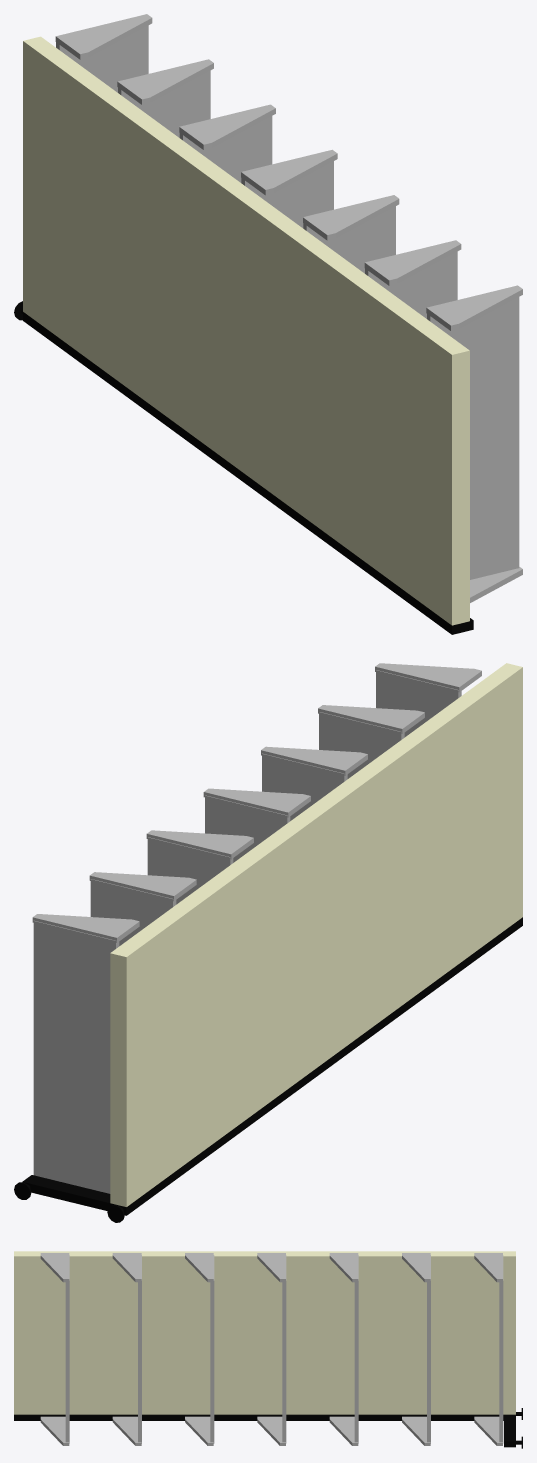
The model's file is nil_link_mesh.dae.
The picture shows the model from 3 angles, top to bottom: view 1: azimuth 30°, elevation 25°; view 2: azimuth 150°, elevation 25°; view 3: azimuth 270°, elevation 25°; orthographic projection. The views are drawn at different scales.
Parts seen in each view (by area): view 1: nil_link (×9); view 2: nil_link (×10); view 3: nil_link (×10).
Part boxes in pixels (x1=…): nil_link (×9): x1=23, y1=14, x2=522, y2=634; nil_link (×10): x1=22, y1=663, x2=522, y2=1215; nil_link (×10): x1=14, y1=1251, x2=515, y2=1447.
Bounding box in the file's own units: 0.4 × 0.939 × 2.54.
